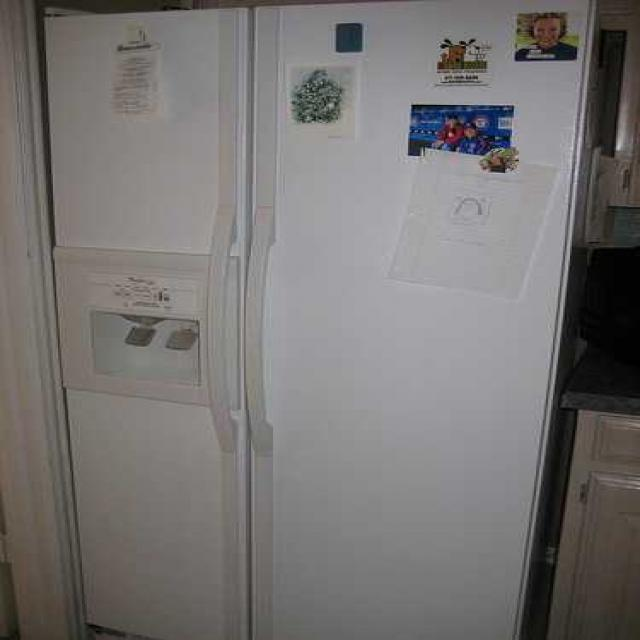refrigerator: (46, 0, 595, 640)
